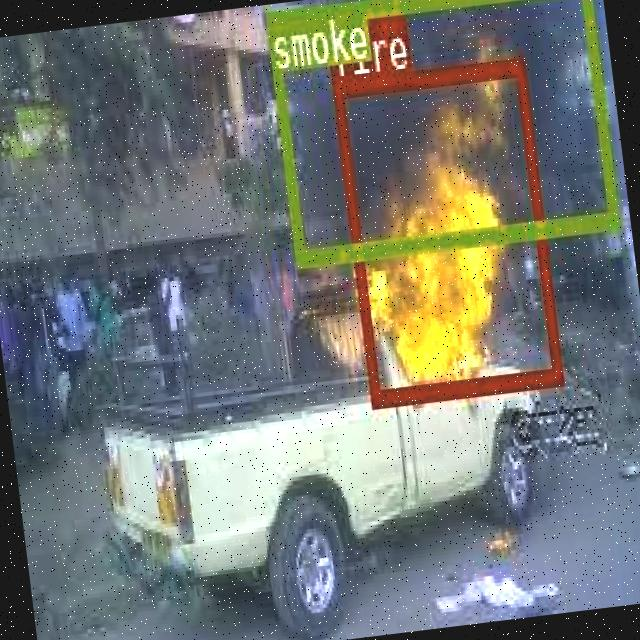fire: (330, 57, 562, 406)
smoke: (264, 0, 617, 264)
